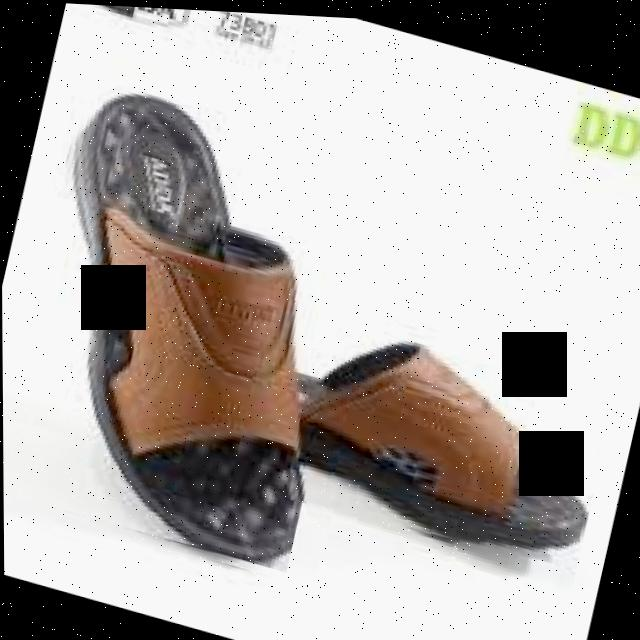shoe: (0, 74, 640, 640), (0, 75, 380, 573), (278, 310, 615, 575)
